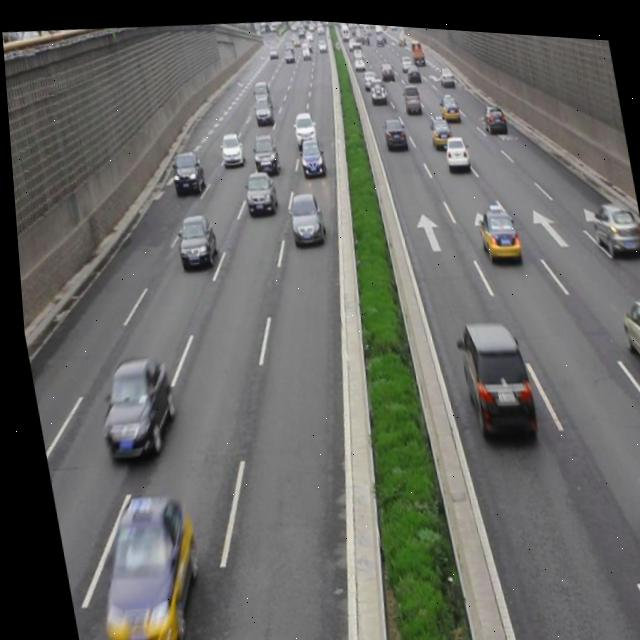car: (76, 491, 201, 640), (447, 311, 534, 446), (85, 353, 175, 464), (584, 189, 639, 255), (470, 196, 517, 262), (170, 211, 218, 269), (282, 187, 322, 243), (615, 283, 640, 372), (626, 446, 640, 591), (166, 143, 203, 195), (239, 167, 276, 212), (247, 127, 277, 175), (293, 131, 324, 174), (439, 128, 466, 168), (216, 128, 243, 166), (378, 110, 405, 146), (426, 110, 450, 140)
